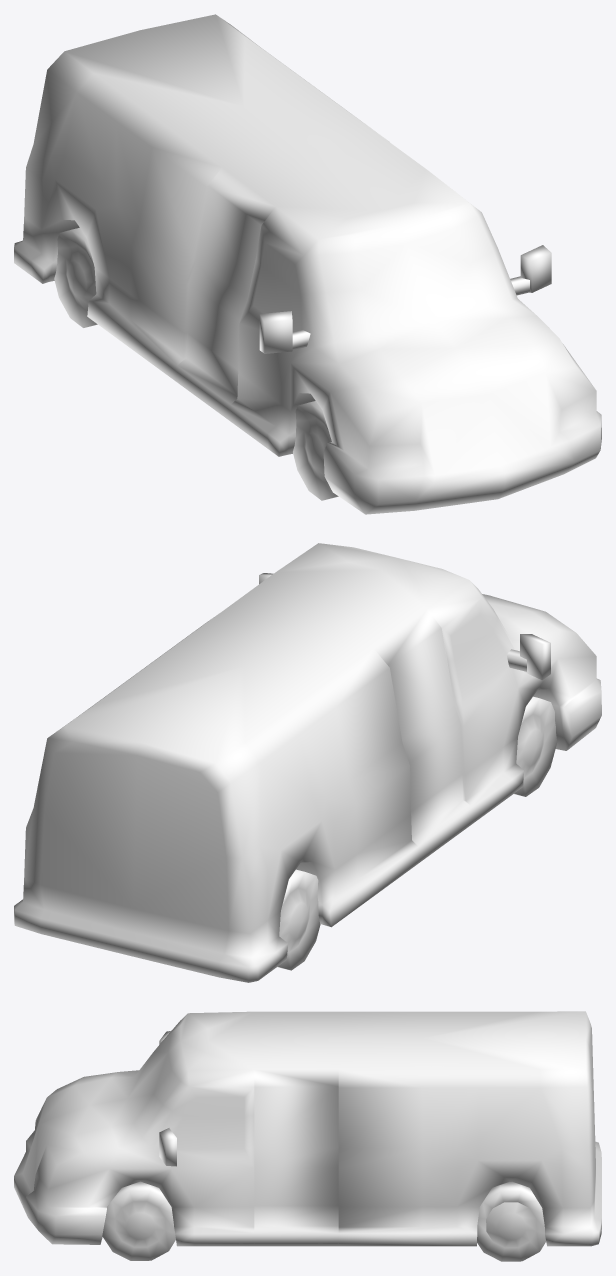
File: van.glb
3 views of the same model, one above another, from view 1: azimuth 30°, elevation 25°; view 2: azimuth 150°, elevation 25°; view 3: azimuth 270°, elevation 25° (orthographic). The views are drawn at different scales.
Parts seen in each view (by area): view 1: van; view 2: van; view 3: van.
Part boxes in pixels (left/top/right/bottom): van: left=14, top=14, right=601, bottom=514; van: left=14, top=543, right=601, bottom=982; van: left=14, top=1011, right=601, bottom=1261.
Size of the model in its own units: 2.86 by 2.21 by 6.49.
2 materials, 2 textured.
